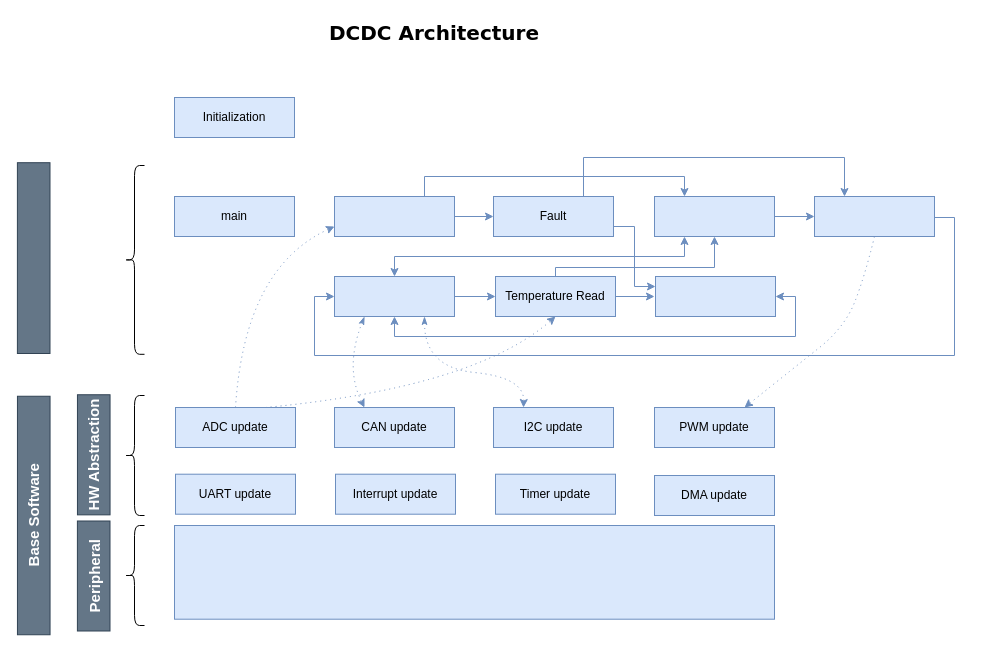
The diagram is 981 pixels wide and 652 high, and some of its shapes have lost their labels. The shapes that lost their labels are listed below. From the top down, each one's centre as x and y in pixels, then its label:
At point (394, 216): "ADC Read".
At point (714, 216): "Control".
At point (874, 216): "PWM".
At point (33, 258): "Application".
At point (394, 296): "IO".
At point (715, 296): "SateFlow".
At point (474, 571): "HW Drivers".
